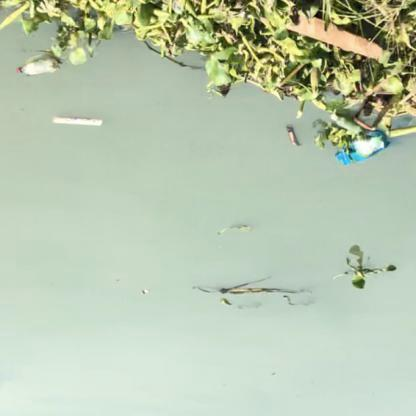Plastic: (336, 128, 394, 168), (13, 54, 62, 79)
